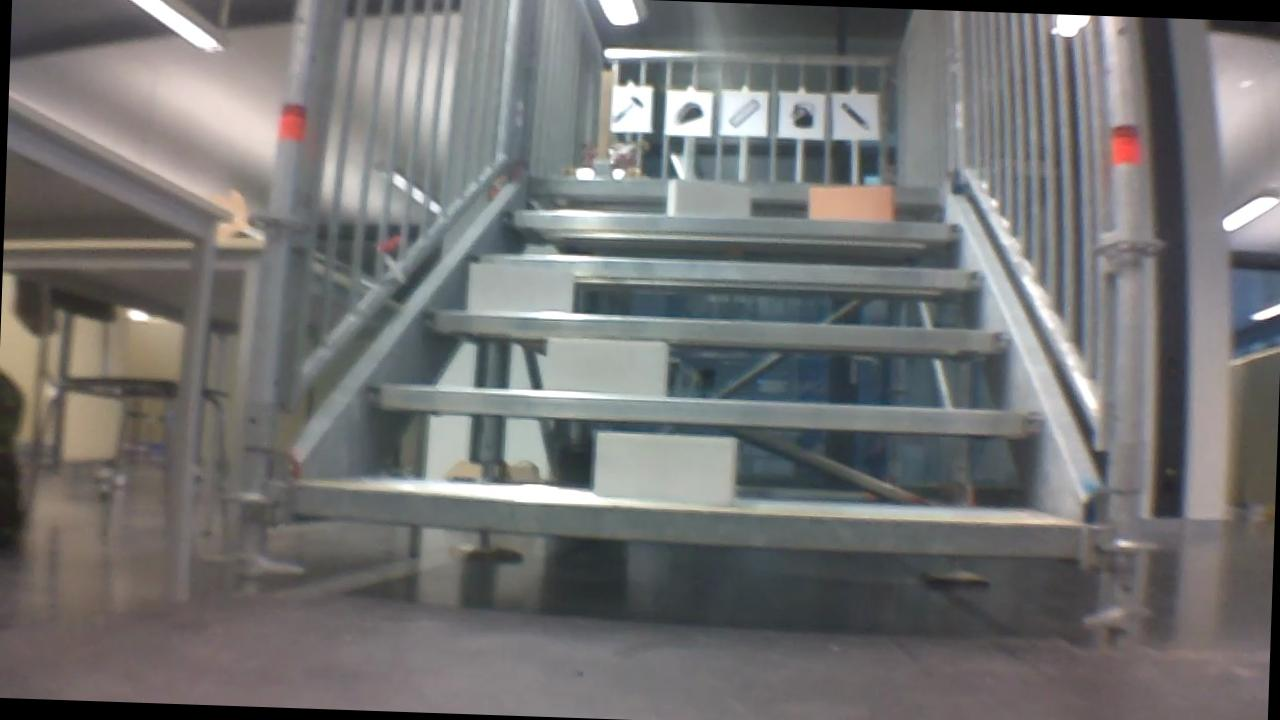brick: (592, 431, 737, 505), (546, 339, 668, 397), (470, 260, 573, 312), (667, 177, 750, 216), (811, 184, 890, 219)
bucket: (784, 99, 818, 129)
edge: (285, 484, 1080, 557), (361, 384, 1045, 439), (420, 310, 1010, 352), (466, 249, 980, 290), (501, 206, 961, 241), (531, 172, 938, 204)
hammer: (613, 88, 649, 129)
pencil: (833, 98, 875, 136)
ruler: (723, 94, 762, 130)
steps: (275, 156, 1104, 573)
taco: (671, 97, 706, 129)
